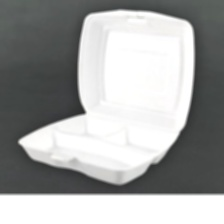foam_box: (13, 3, 202, 190)
